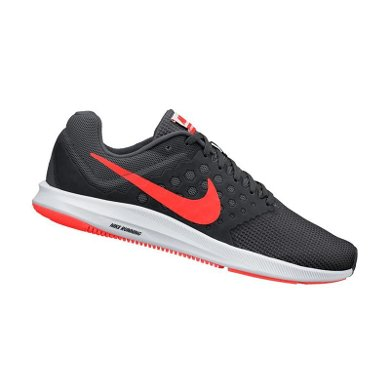nike: (85, 149, 224, 226)
